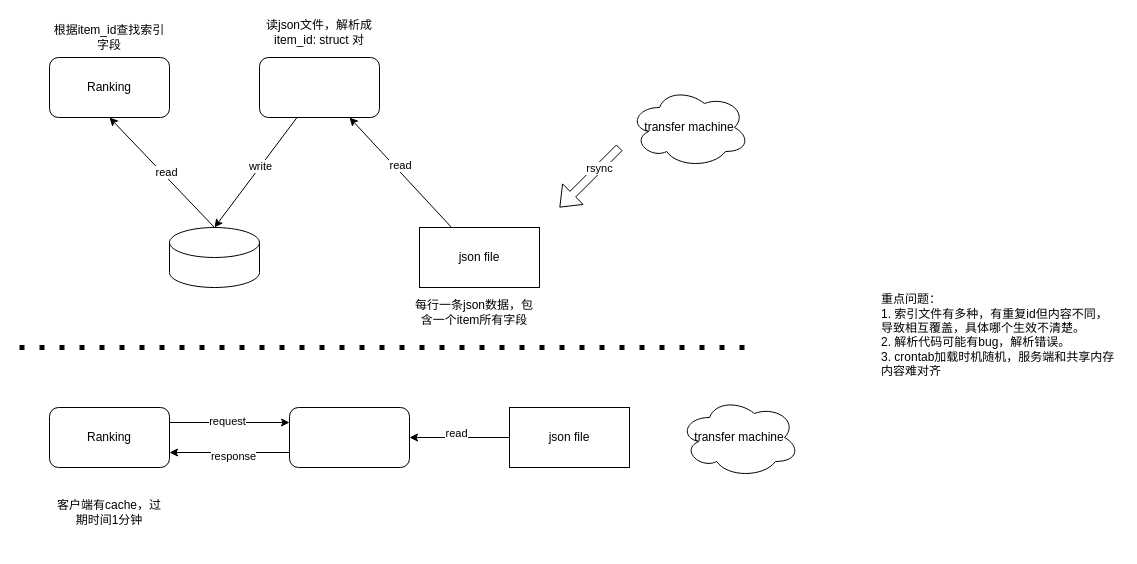
Image size: 1137x564. Some labels were removed from this diagram. The shapes that lost their labels are listed below. From the top down, each one's centre as x and y in pixels, then its label:
At [319,87]: "IndexTool".
At [214,257]: "SharedMemory".
At [349,437]: "Index Service".
